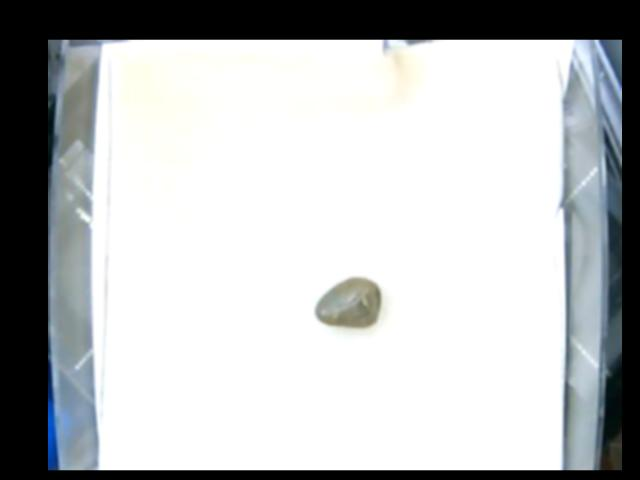Pebble: (315, 276, 378, 326)
